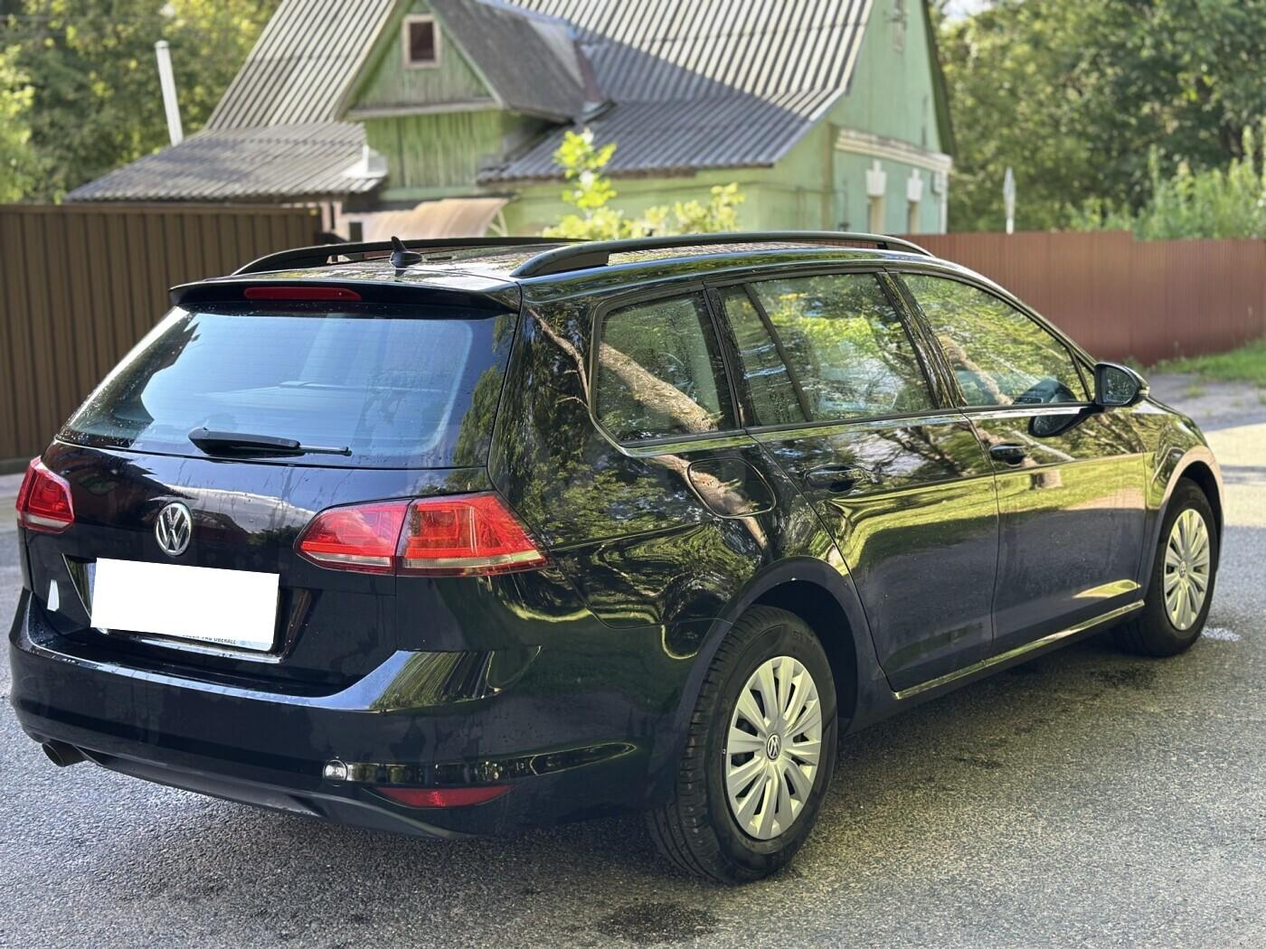Golf_2012-2017: (0, 241, 1220, 880)
